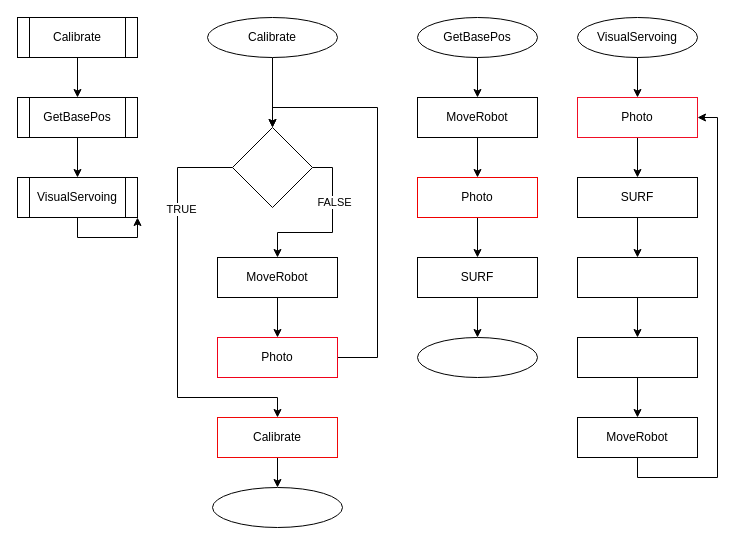
Image size: 743x545. Some labels were removed from this diagram. Here are the shapes that lost their labels. From the top down, the centre of each, then its label:
At point (272, 167): "photo=20".
At point (637, 277): "CalcCameraVel".
At point (477, 357): "END GetBasePos".
At point (637, 357): "ConvertToTr".
At point (277, 507): "END Calibrate".
